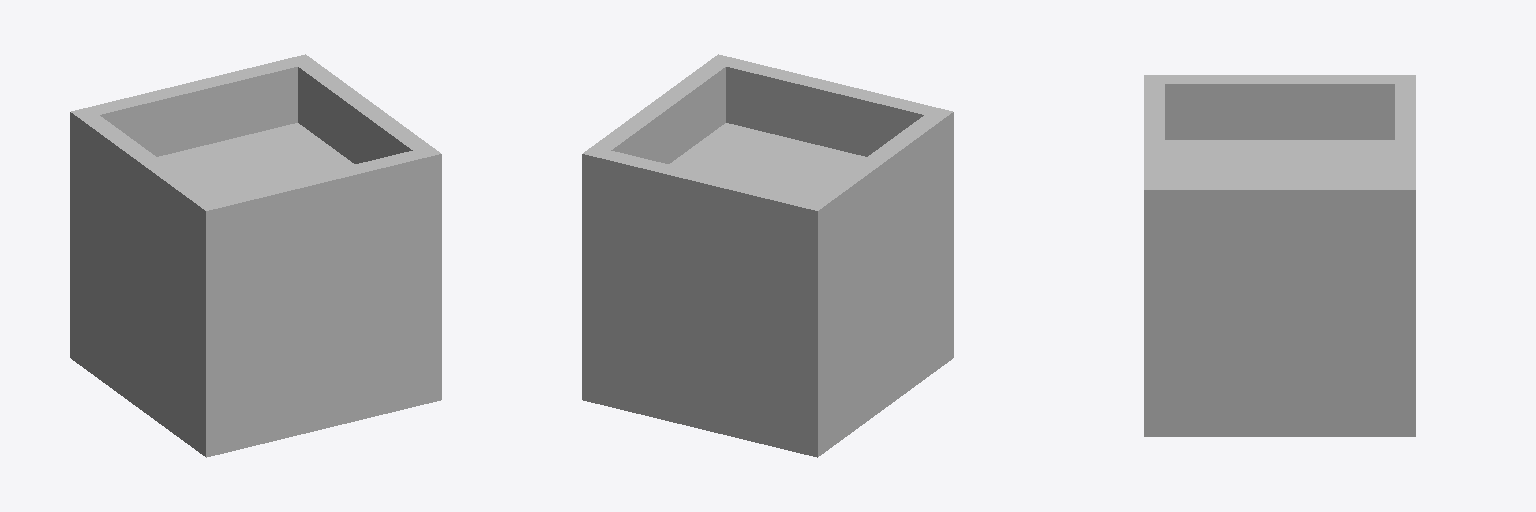
Rendered from flower pot empty.obj.
3 views of the same model, side by side, from view 1: azimuth 30°, elevation 25°; view 2: azimuth 150°, elevation 25°; view 3: azimuth 270°, elevation 25° (orthographic).
Parts seen in each view (by area): view 1: flower_pot.001; view 2: flower_pot.001; view 3: flower_pot.001.
Boxes of the visible parts, <box> form: flower_pot.001: <box>70,54,441,457</box>; flower_pot.001: <box>582,54,953,457</box>; flower_pot.001: <box>1144,75,1415,436</box>.
Size of the model in its own units: 0.593 by 0.593 by 0.593.